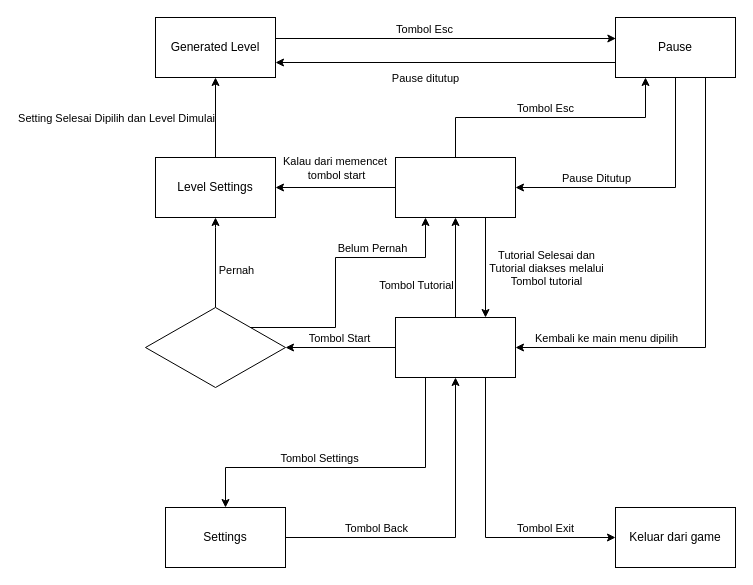
Image size: 753x585. Some labels were removed from this diagram. Here are the shapes that lost their labels. From the top down, the centre of each, then its label:
pixel 455 187: Tutorial
pixel 215 347: Tutorial pernah dijalankan?
pixel 455 347: Main Menu
